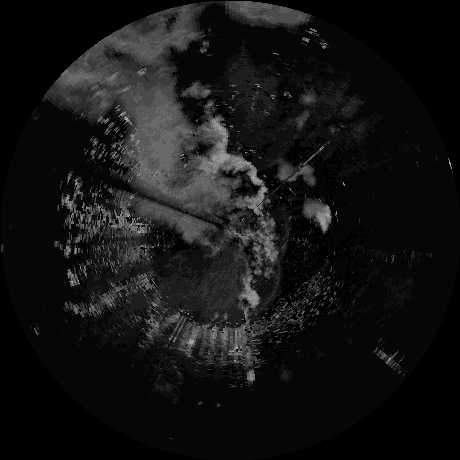frontgust: (261, 257, 282, 312), (283, 225, 289, 252)
